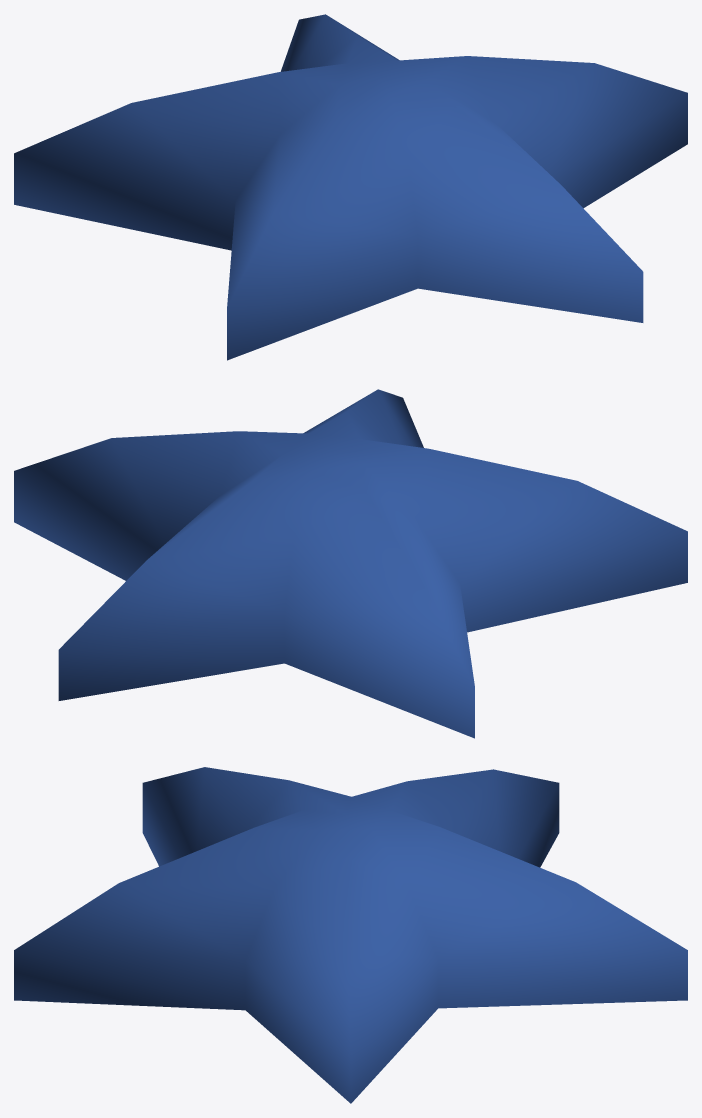
The model's file is SM_Toy_03.fbx.
3 views of the same model, one above another, from view 1: azimuth 30°, elevation 25°; view 2: azimuth 150°, elevation 25°; view 3: azimuth 270°, elevation 25° (orthographic). The views are drawn at different scales.
Visible parts, largest first — view 1: SM_Toy_03; view 2: SM_Toy_03; view 3: SM_Toy_03.
Boxes of the visible parts, x1=… form: SM_Toy_03: x1=14, y1=14, x2=687, y2=360; SM_Toy_03: x1=14, y1=389, x2=687, y2=738; SM_Toy_03: x1=14, y1=767, x2=687, y2=1103.
Bounding box in the file's own units: 16.33 × 3.96 × 17.17.
